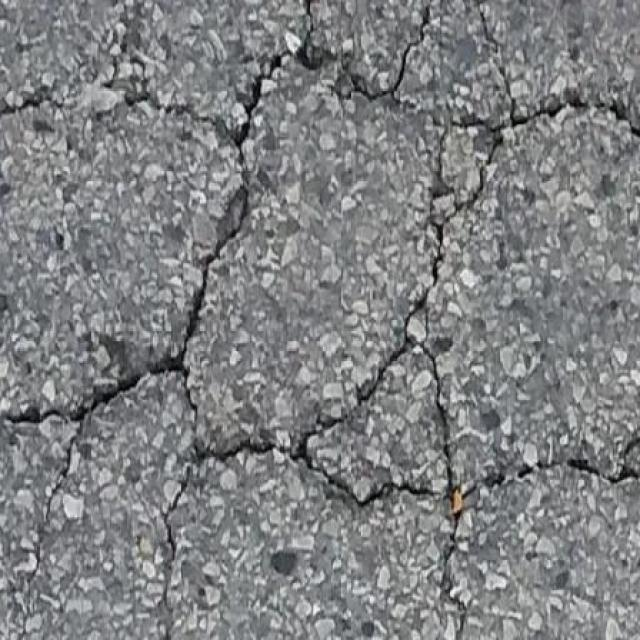Crack: (0, 310, 419, 639), (108, 0, 378, 352), (346, 334, 531, 639), (379, 0, 501, 293), (536, 429, 640, 489), (458, 104, 640, 136), (36, 435, 78, 548), (0, 90, 74, 118), (486, 20, 510, 94), (0, 566, 38, 592)
